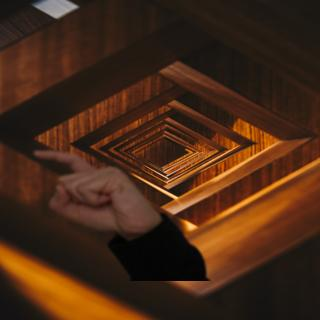WHY: (26, 139, 157, 235)
